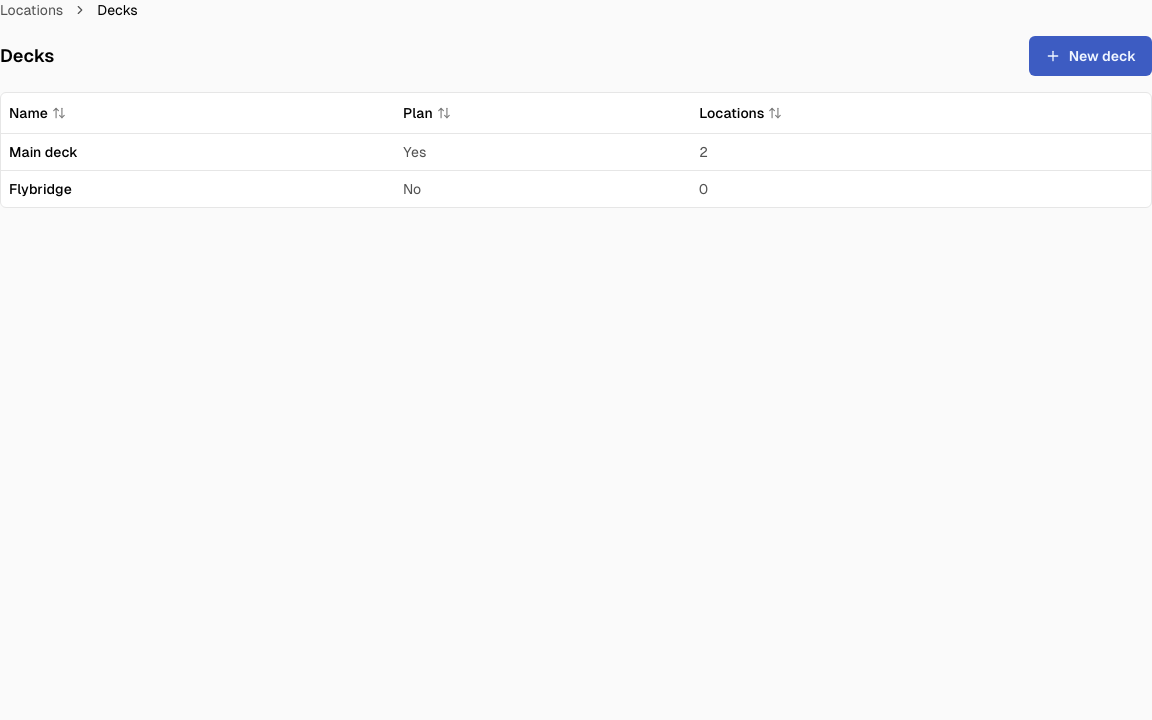
Test: DecksIndex › shows the server message verbatim when a create is refused
Check: the text "Main deck" is shown, box top-left (9, 144), bottom-right (78, 160)
Click the button "New deck".
click(1090, 56)  # box top-left (1029, 36), bottom-right (1151, 76)
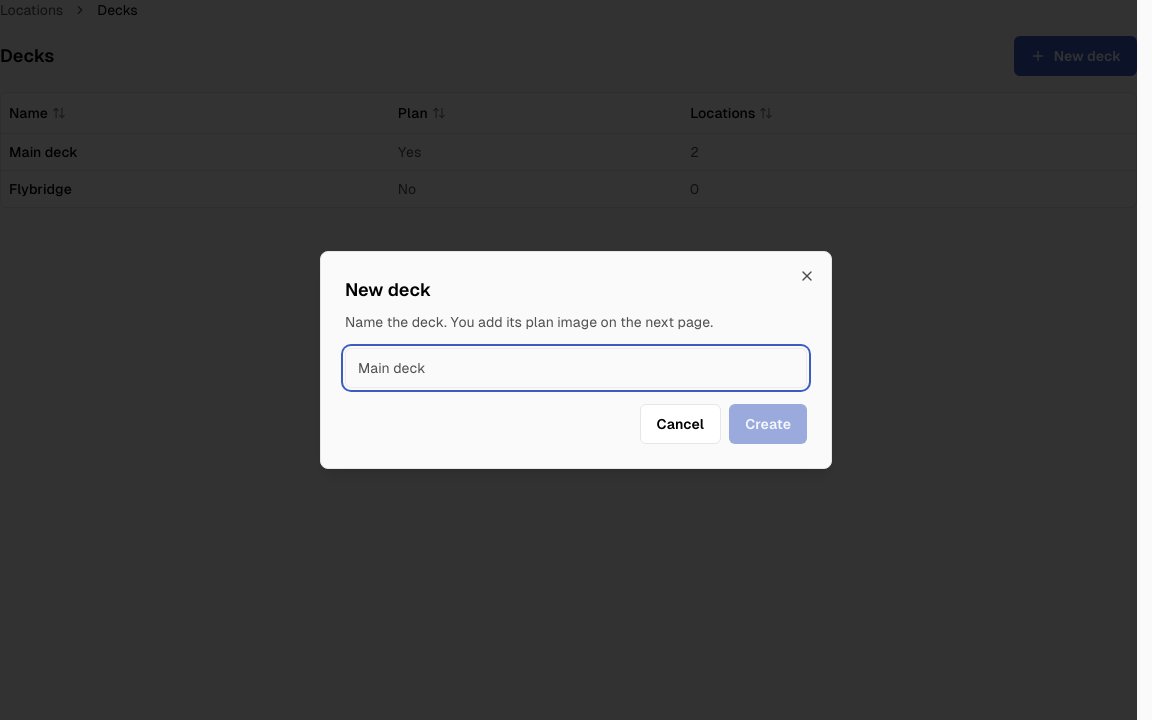
Type "main deck" into the field named "Deck name".
click(576, 368); type("main deck")  # box top-left (345, 348), bottom-right (807, 388)
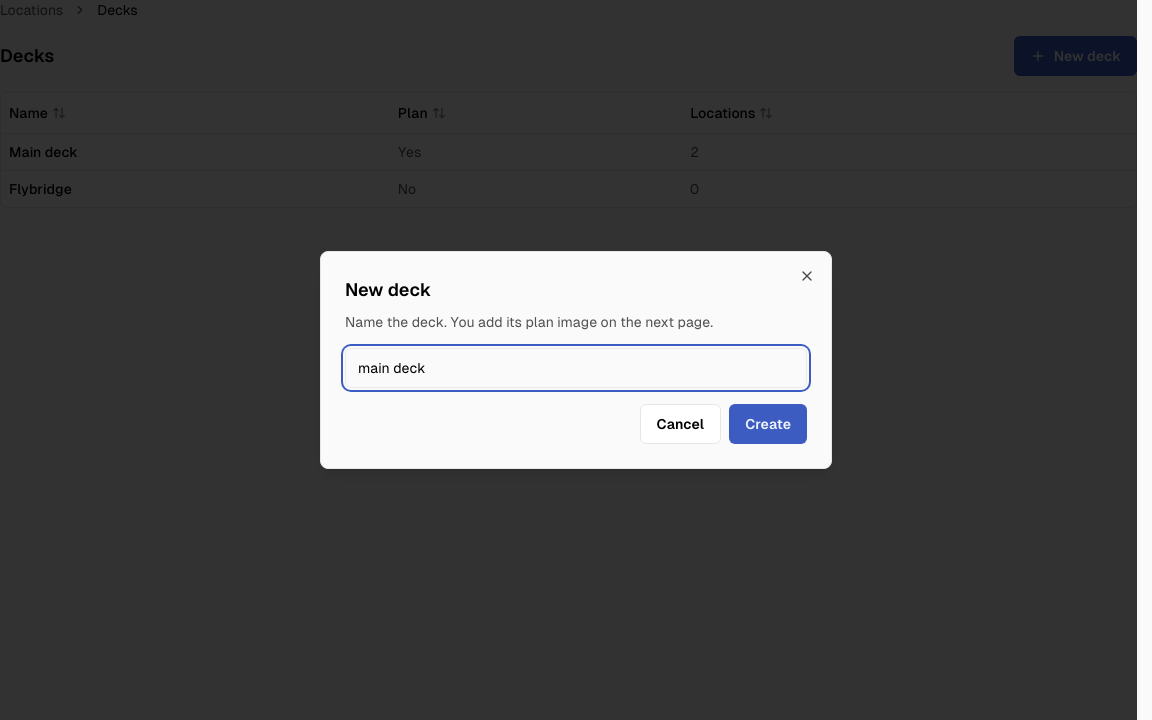
Click the button "Create".
click(768, 424)  # box top-left (729, 404), bottom-right (807, 444)
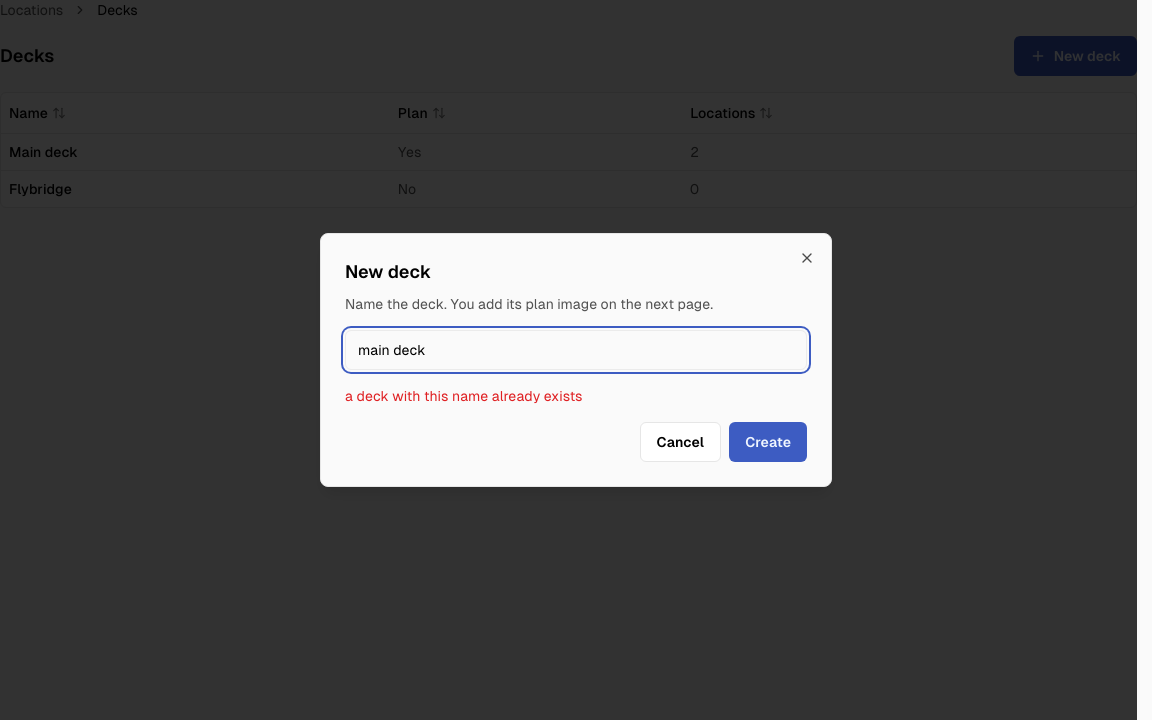
Check: the text "a deck with this name already exists" is shown, box top-left (345, 388), bottom-right (582, 404)
